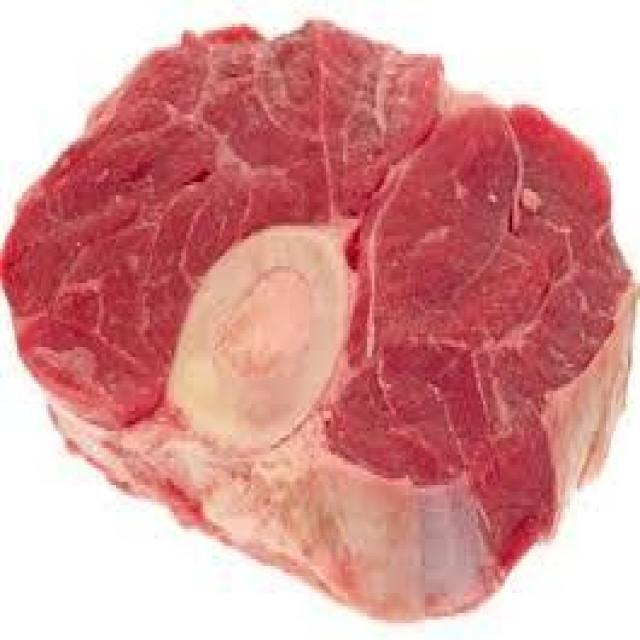Wet Waste: (7, 6, 635, 640)
